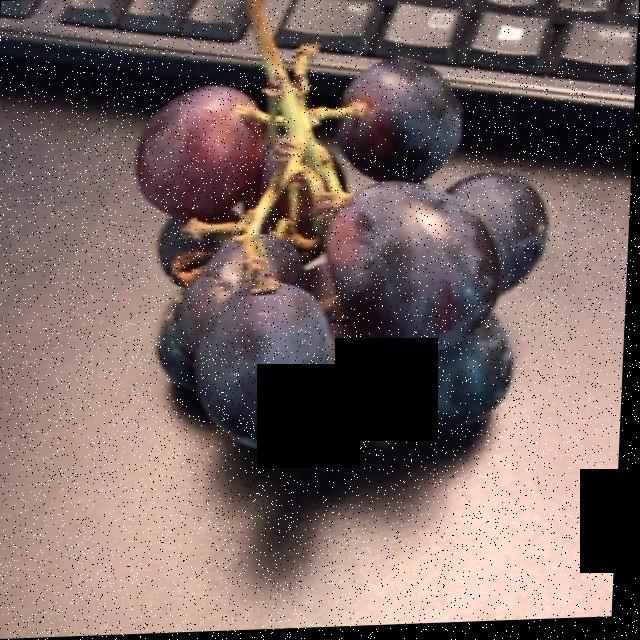grapes: (152, 37, 550, 460)
